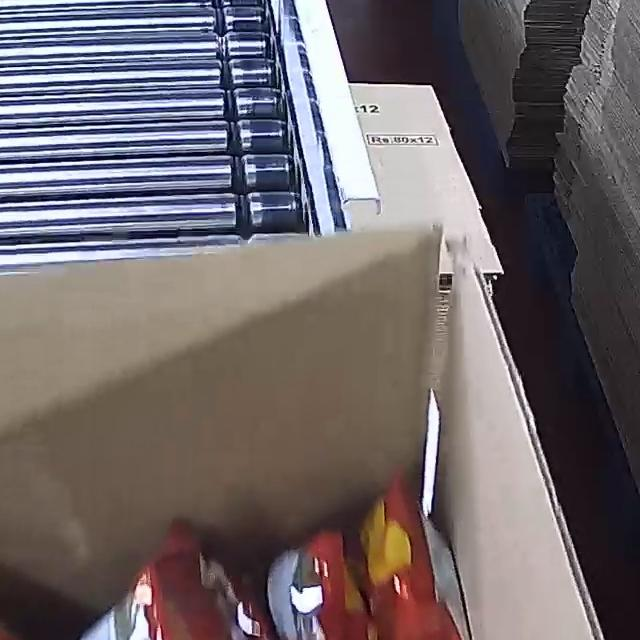masala: (0, 470, 516, 640)
